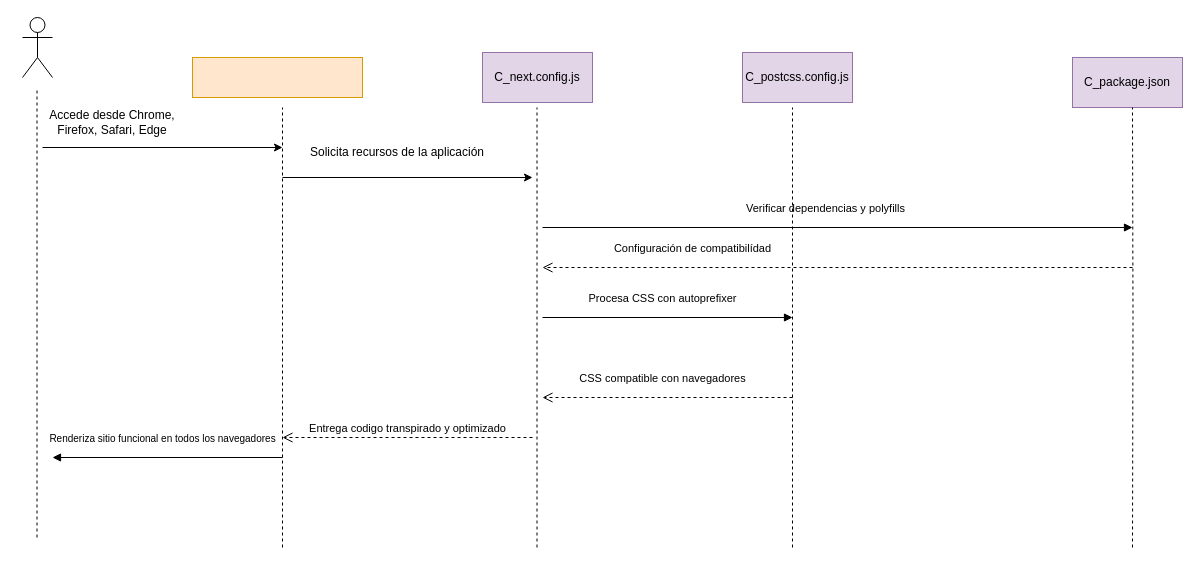
Image size: 1200x566. Some labels were removed from this diagram. The centre of each missing label's shape, as x and y in pixels:
Usuario: the point at 37,47
V_page.tsx: the point at 277,77
